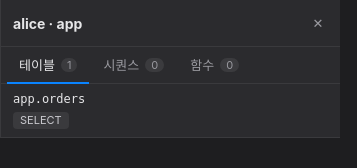
the objects › a tab with nothing in it says so
Check: the text "app.orders" is shown, box x1=13 y1=92 x2=85 y2=106
Click the tab "시퀀스 0".
click(134, 66)  # box x1=91 y1=47 x2=176 y2=84
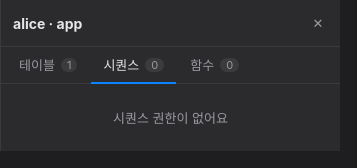
Check: the text "시퀀스 권한이 없어요" is shown, box x1=113 y1=110 x2=228 y2=126
Click the tab "함수 0".
click(215, 66)  # box x1=178 y1=47 x2=251 y2=84
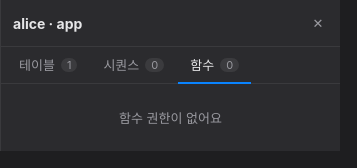
Check: the text "함수 권한이 없어요" is shown, box x1=119 y1=110 x2=222 y2=126
Click the tab "테이블 1".
click(48, 66)  # box x1=7 y1=47 x2=89 y2=84
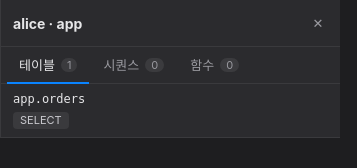
Check: the text "app.orders" is shown, box x1=13 y1=92 x2=85 y2=106
